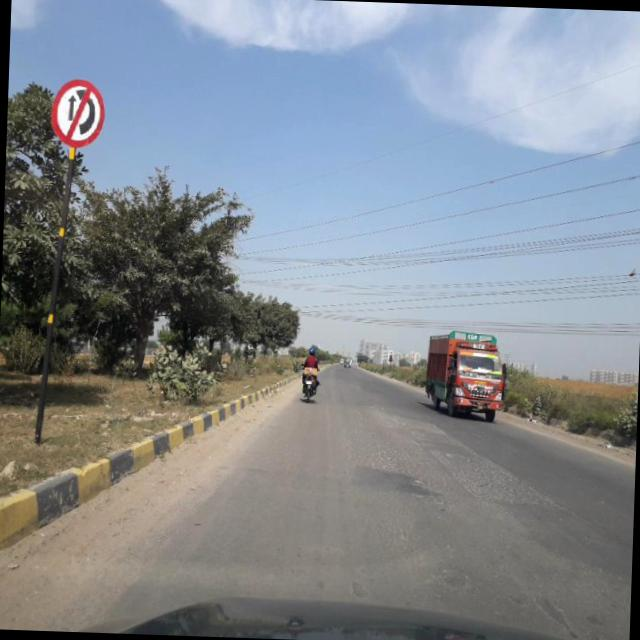crack: (367, 428, 563, 522)
